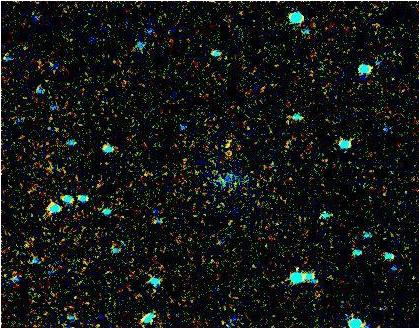star: (222, 133, 252, 163)
